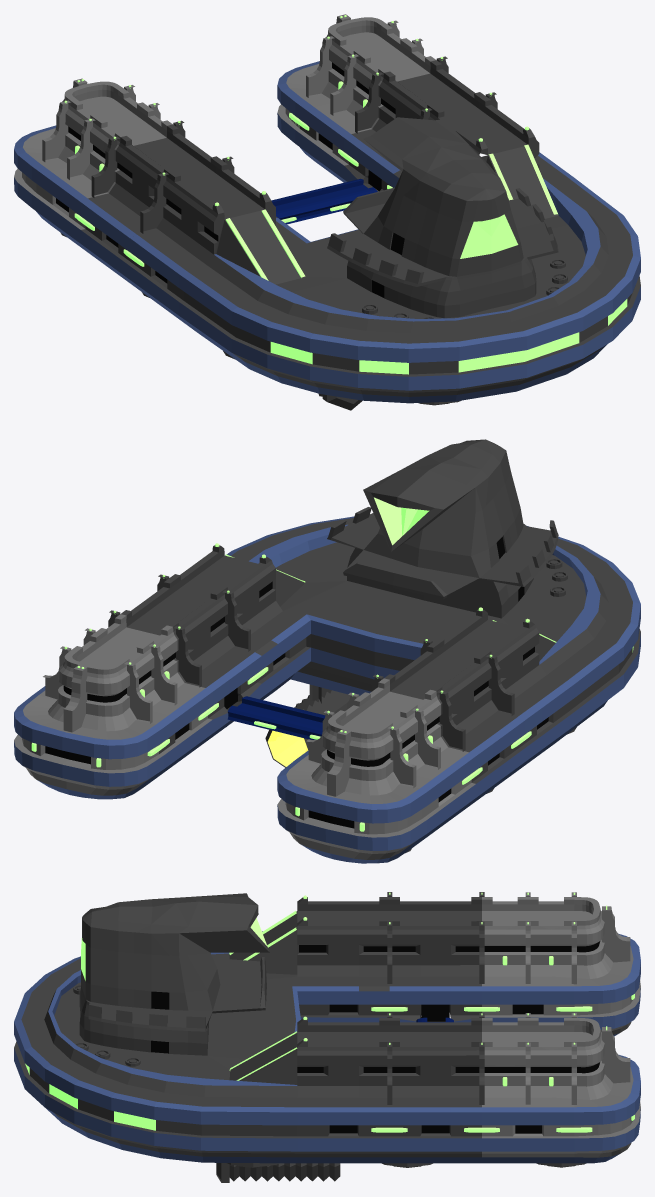
Rendered from spacestation5.gltf.
The picture shows the model from 3 angles, top to bottom: view 1: azimuth 30°, elevation 25°; view 2: azimuth 150°, elevation 25°; view 3: azimuth 270°, elevation 25°; orthographic projection. The views are drawn at different scales.
Parts seen in each view (by area): view 1: ship, backlights; view 2: ship; view 3: ship, backlights.
Boxes of the visible parts, box(x1,y1,x2,y2) form: ship: box(14, 14, 640, 410); backlights: box(270, 299, 627, 374); ship: box(14, 439, 640, 863); ship: box(14, 892, 640, 1182); backlights: box(25, 1063, 155, 1130).
Size of the model in its own units: 2.1 by 1.36 by 3.07.
